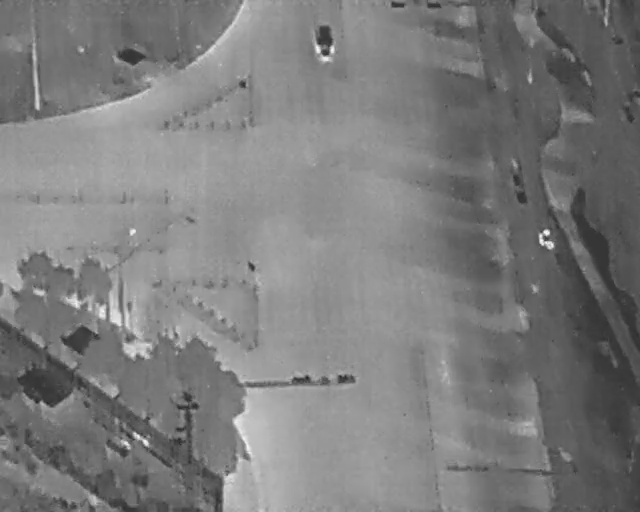Car: (311, 20, 337, 64)
